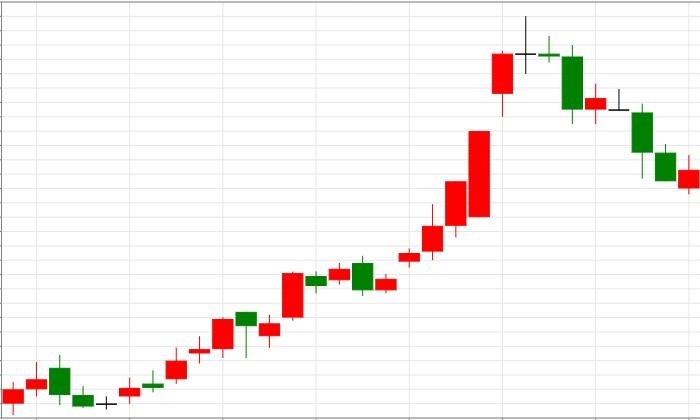hanging_man_fall: (96, 311, 257, 410)
